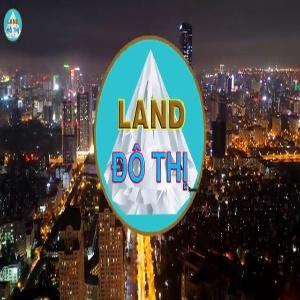drone: (175, 170, 216, 211)
